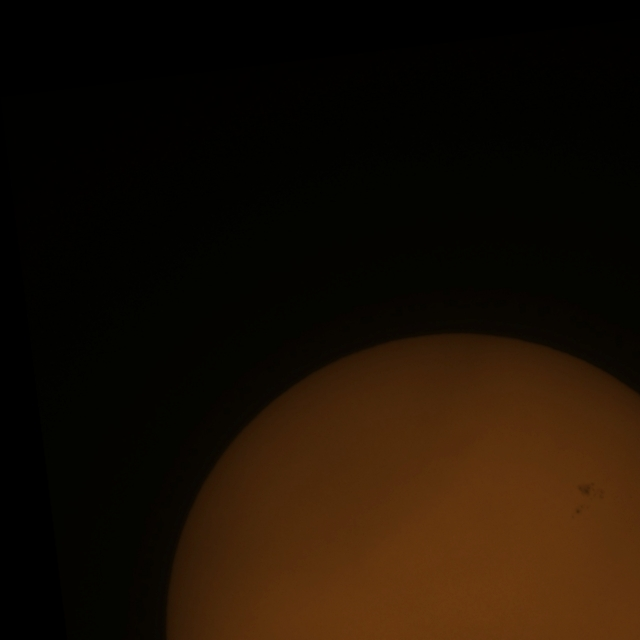sunspot: (574, 482, 605, 517), (577, 482, 602, 500), (571, 505, 586, 519)
